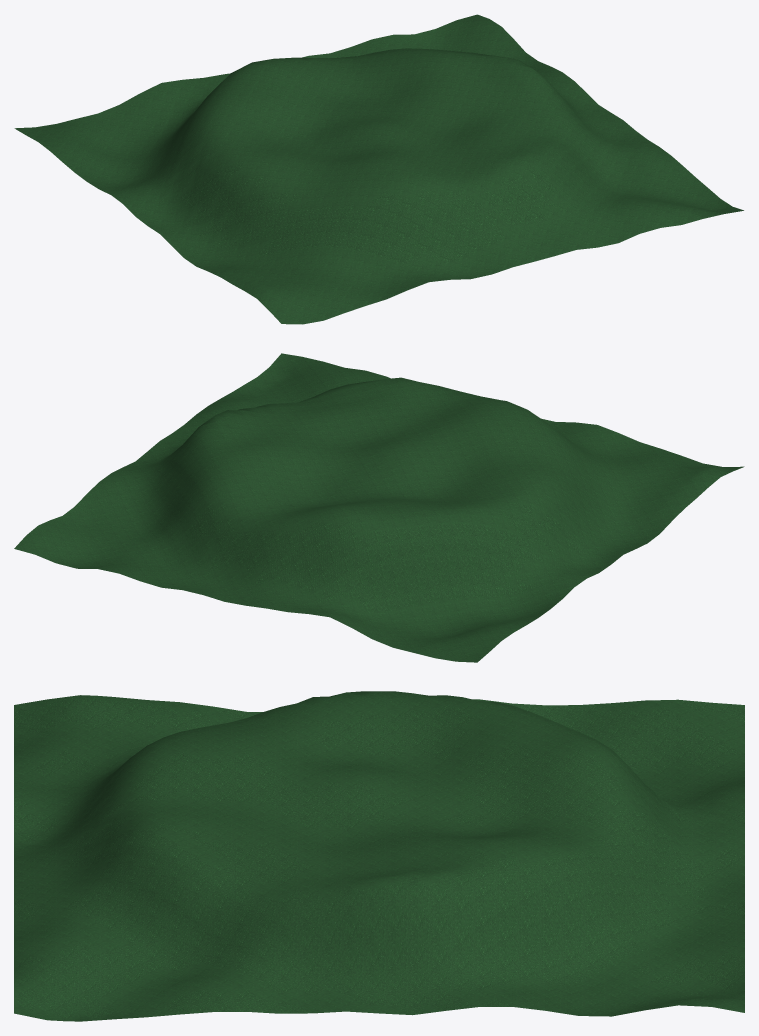
Rendered from landscape.glb.
The picture shows the model from 3 angles, top to bottom: view 1: azimuth 30°, elevation 25°; view 2: azimuth 150°, elevation 25°; view 3: azimuth 270°, elevation 25°; orthographic projection. The views are drawn at different scales.
Visible parts, largest first — view 1: Plane; view 2: Plane; view 3: Plane.
Boxes of the visible parts, left/top/right/bottom form: Plane: left=14, top=14, right=743, bottom=324; Plane: left=14, top=353, right=744, bottom=662; Plane: left=14, top=691, right=744, bottom=1021.
Bounding box in the file's own units: 136 × 20.73 × 136.
Materials: 1 (1 with a texture image).
